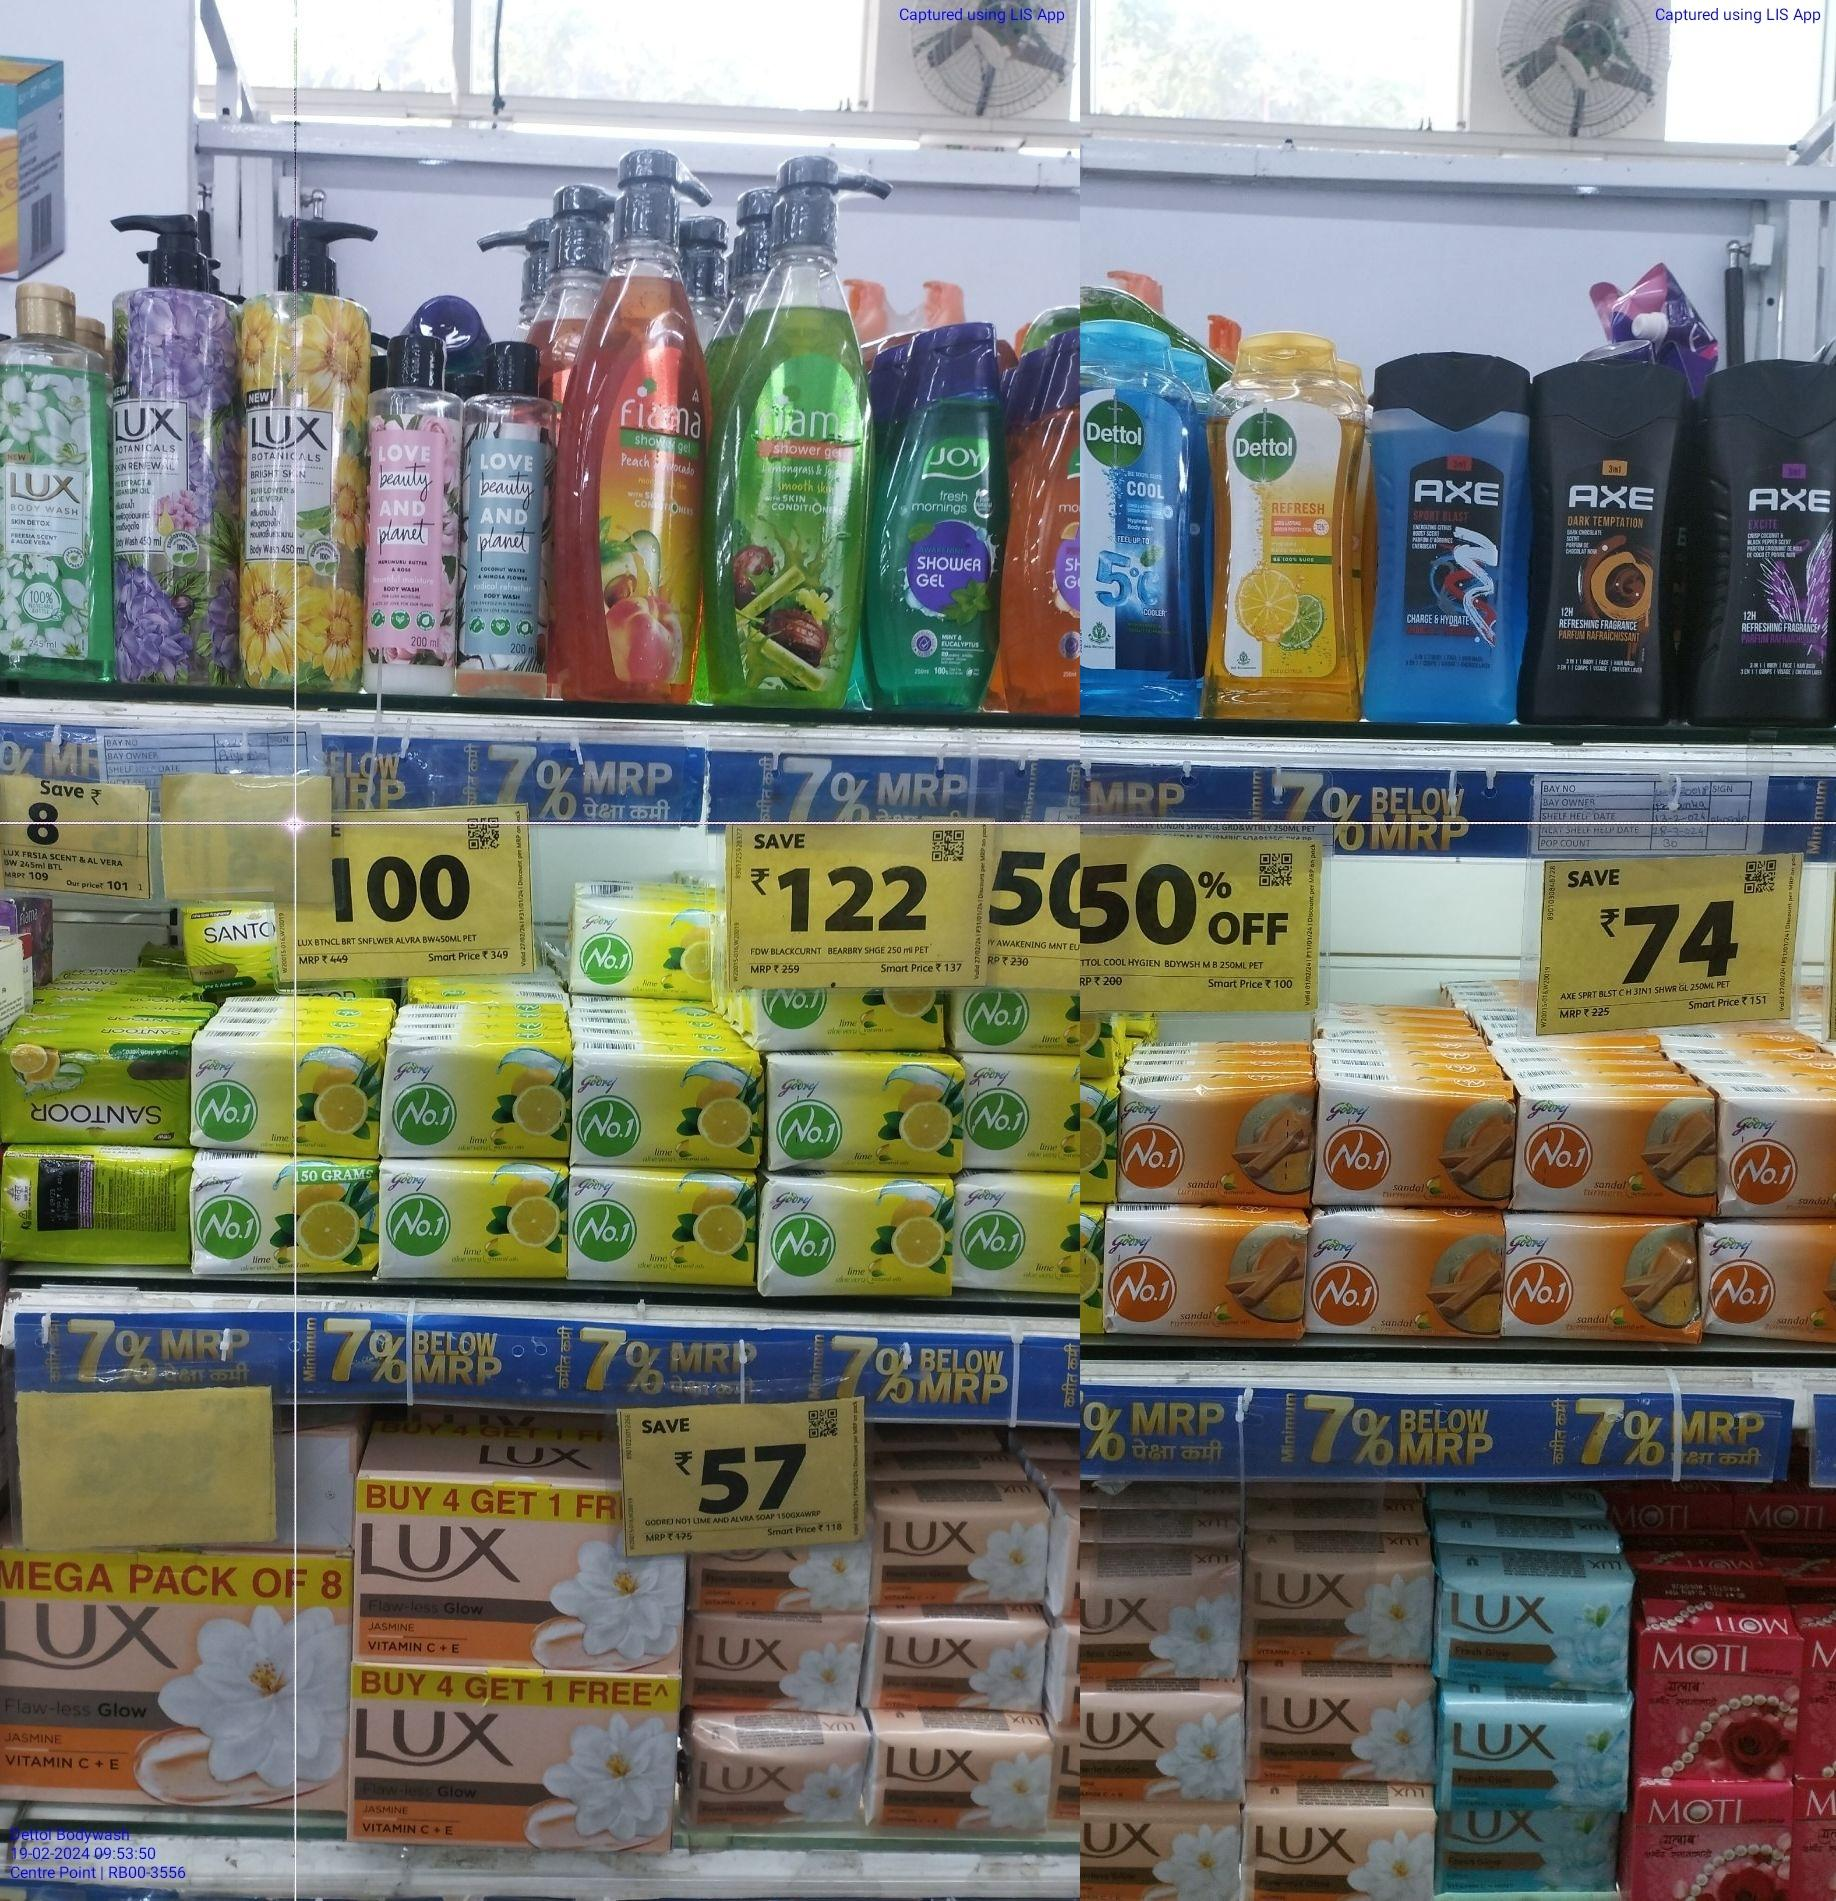Dettol_Bodywash_Cool: (1086, 322, 1203, 711)
Dettol_Bodywash_Refresh: (1210, 321, 1361, 725)
Joy_Shower_Gel_Mint_and_Eucalyptus_250ML: (882, 322, 1006, 701)
